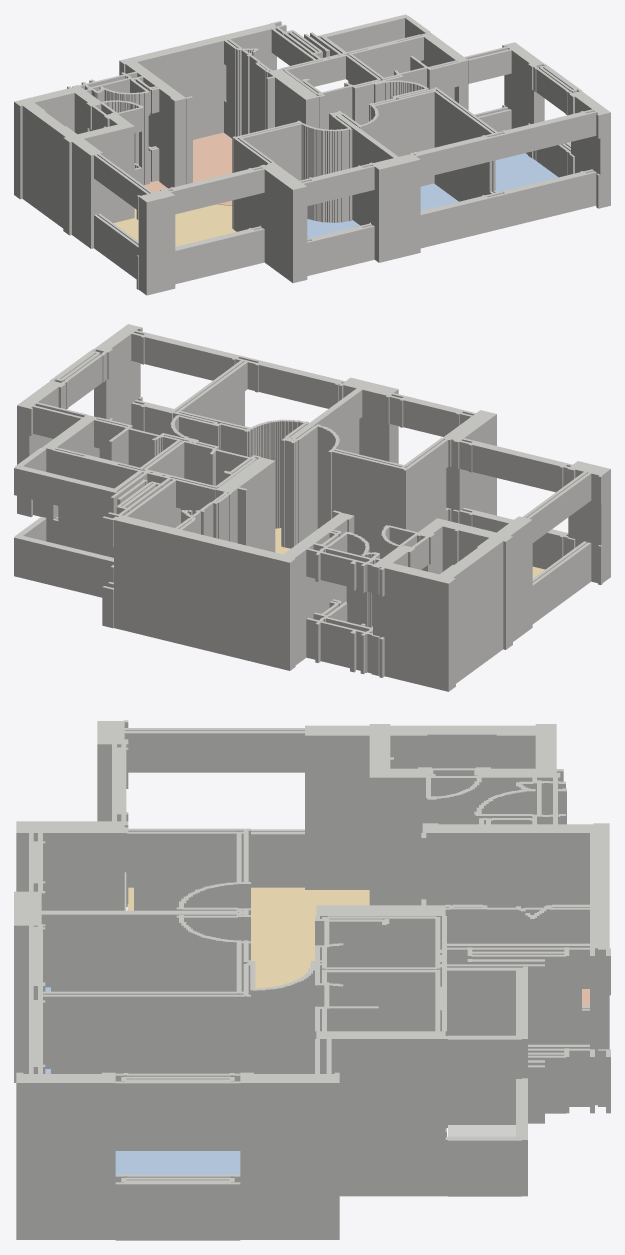
3 renders of one model, top to bottom at view 1: azimuth 30°, elevation 25°; view 2: azimuth 150°, elevation 25°; view 3: azimuth 270°, elevation 25°, orthographic. The views are drawn at different scales.
Visible parts, largest first — view 1: walls, room:living:3, room:kitchen:0, room:bedroom:9, room:bedroom:7, room:bedroom:4; view 2: walls; view 3: walls, room:living:3, room:bedroom:9, room:ledge:5.
Boxes of the visible parts, left/top/right/bottom form: walls: left=14, top=14, right=610, bottom=295; room:living:3: left=113, top=204, right=236, bottom=246; room:kitchen:0: left=144, top=132, right=232, bottom=205; room:bedroom:9: left=495, top=153, right=558, bottom=191; room:bedroom:7: left=420, top=183, right=458, bottom=210; room:bedroom:4: left=307, top=219, right=359, bottom=238; walls: left=14, top=324, right=610, bottom=691; walls: left=14, top=720, right=610, bottom=1240; room:living:3: left=127, top=887, right=369, bottom=988; room:bedroom:9: left=115, top=1151, right=240, bottom=1174; room:ledge:5: left=448, top=1125, right=515, bottom=1136.
Bounding box in the file's own units: 13.88 × 2.8 × 9.64.
